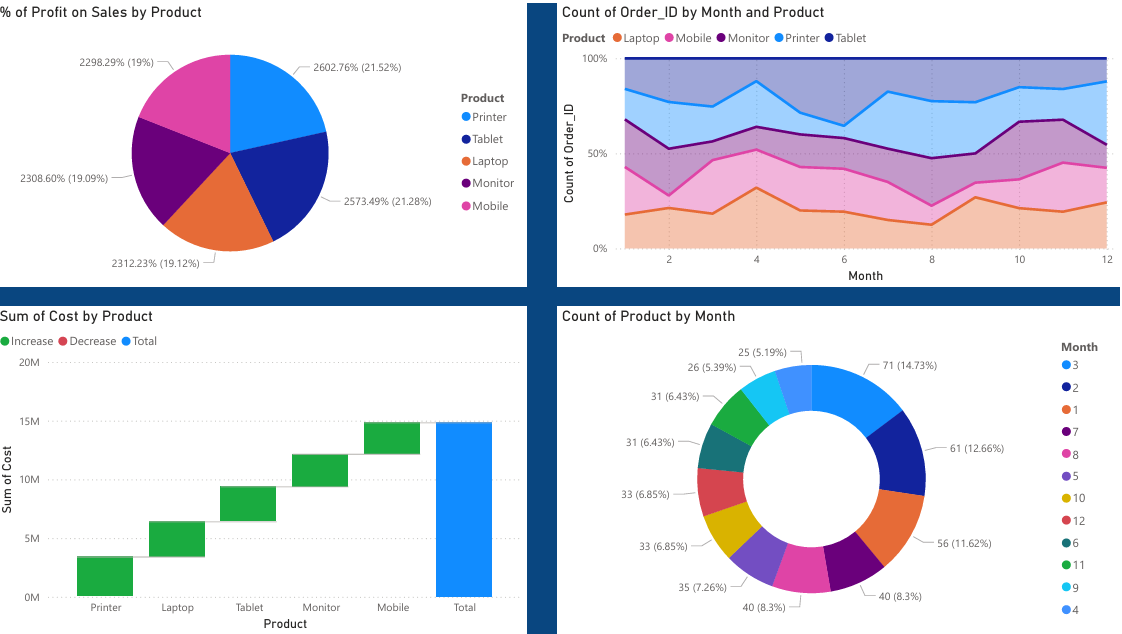

The page's visual inventory and layout, read from the dashboard file:
{"tool":"powerbi","page":{"name":"Page 2","canvas":[1280,720],"ordinal":1},"visuals":[{"type":"pieChart","title":"% of Profit on Sales by Product","fields":{"Y":["Sum(sales_data.% of Profit on Sales)"],"Category":["sales_data.Product"]},"box":[0,0,605.3,322.8],"z":0},{"type":"waterfallChart","fields":{"Category":["sales_data.Product"],"Y":["Sum(sales_data.Cost)"]},"box":[0,346.3,605.3,373.7],"z":1},{"type":"hundredPercentStackedAreaChart","fields":{"Category":["sales_data.Month"],"Series":["sales_data.Product"],"Y":["CountNonNull(sales_data.Order_ID)"]},"box":[639.5,0,640.8,322.8],"z":2},{"type":"donutChart","fields":{"Y":["CountNonNull(sales_data.Product)"],"Category":["sales_data.Month"]},"box":[640,346.3,640,373.7],"z":3}]}

Visuals, with their boxes in screenshot pixels (x1, y1, x2, y2), scaled from the page's 1280x720 canvas onto the 1122x634 screenshot:
"% of Profit on Sales by Product" pieChart: {"x1": 0, "y1": 0, "x2": 531, "y2": 284}
waterfallChart - sales_data.Product x Sum(sales_data.Cost): {"x1": 0, "y1": 305, "x2": 531, "y2": 633}
hundredPercentStackedAreaChart - sales_data.Month x sales_data.Product: {"x1": 561, "y1": 0, "x2": 1121, "y2": 284}
donutChart - CountNonNull(sales_data.Product) x sales_data.Month: {"x1": 561, "y1": 305, "x2": 1121, "y2": 633}
